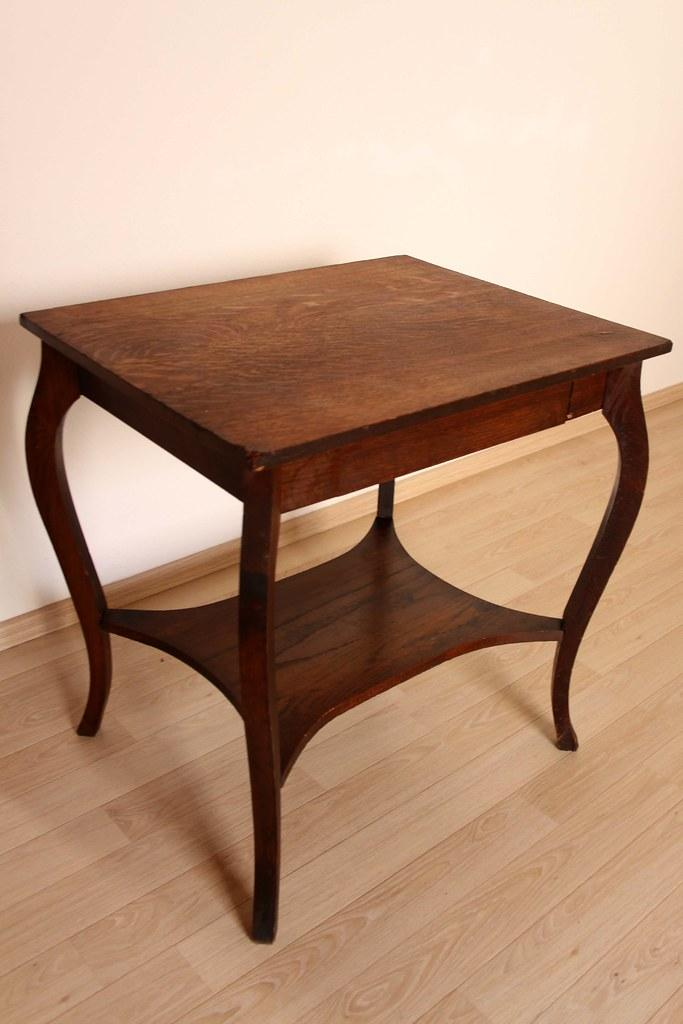table: (19, 253, 674, 944)
